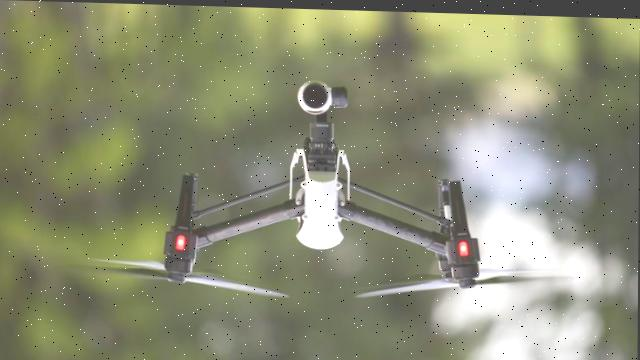drone: (61, 61, 585, 314)
